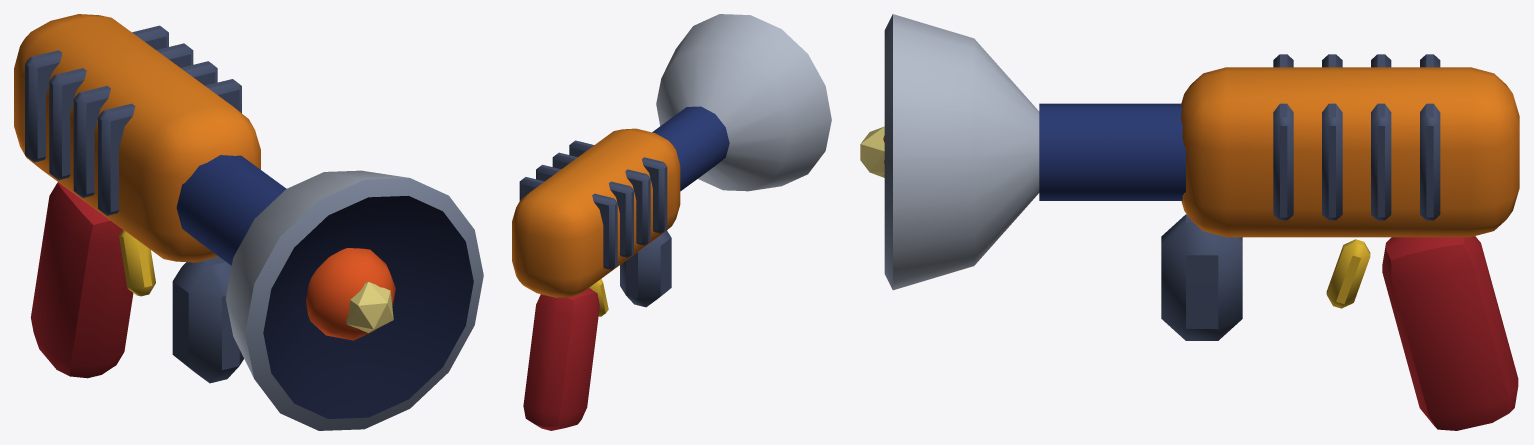
File: w_m_inferno.glb
3 renders of one model, left to right at view 1: azimuth 30°, elevation 25°; view 2: azimuth 150°, elevation 25°; view 3: azimuth 270°, elevation 25°, orthographic. The views are drawn at different scales.
Visible parts, largest first — view 1: body; view 2: body; view 3: body.
Boxes of the visible parts, left/top/right/bottom form: body: left=14, top=14, right=483, bottom=430; body: left=512, top=14, right=831, bottom=430; body: left=860, top=14, right=1519, bottom=430.
Bounding box in the file's own units: 0.306 × 0.4873 × 0.7288.
